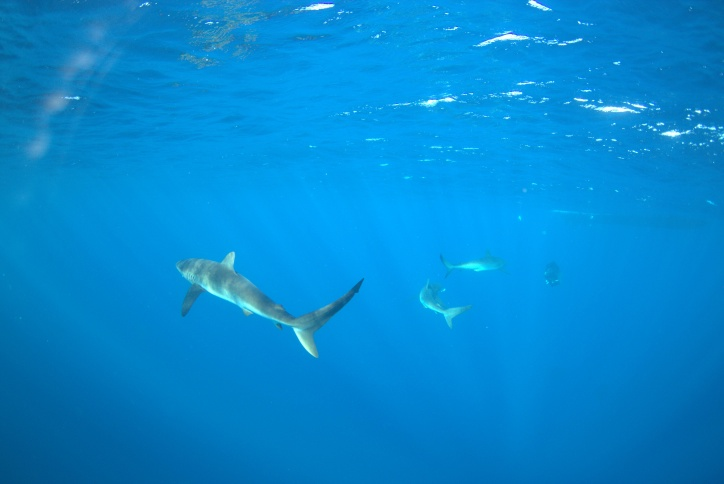Sedoso: (153, 240, 375, 375)
